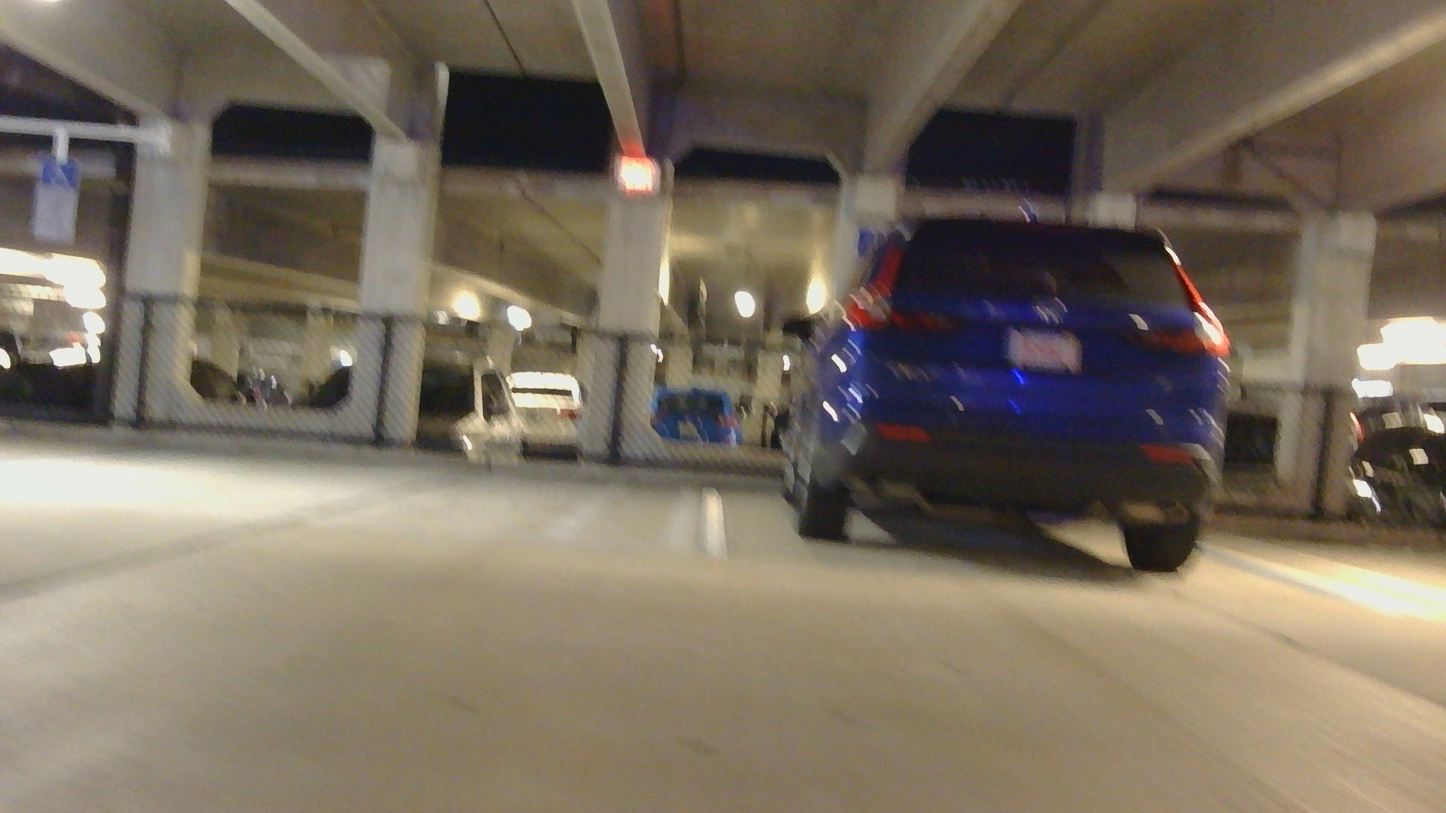empty_spot: (1, 339, 666, 553), (1215, 438, 1446, 630)
occupied_spot: (765, 190, 1242, 580)
